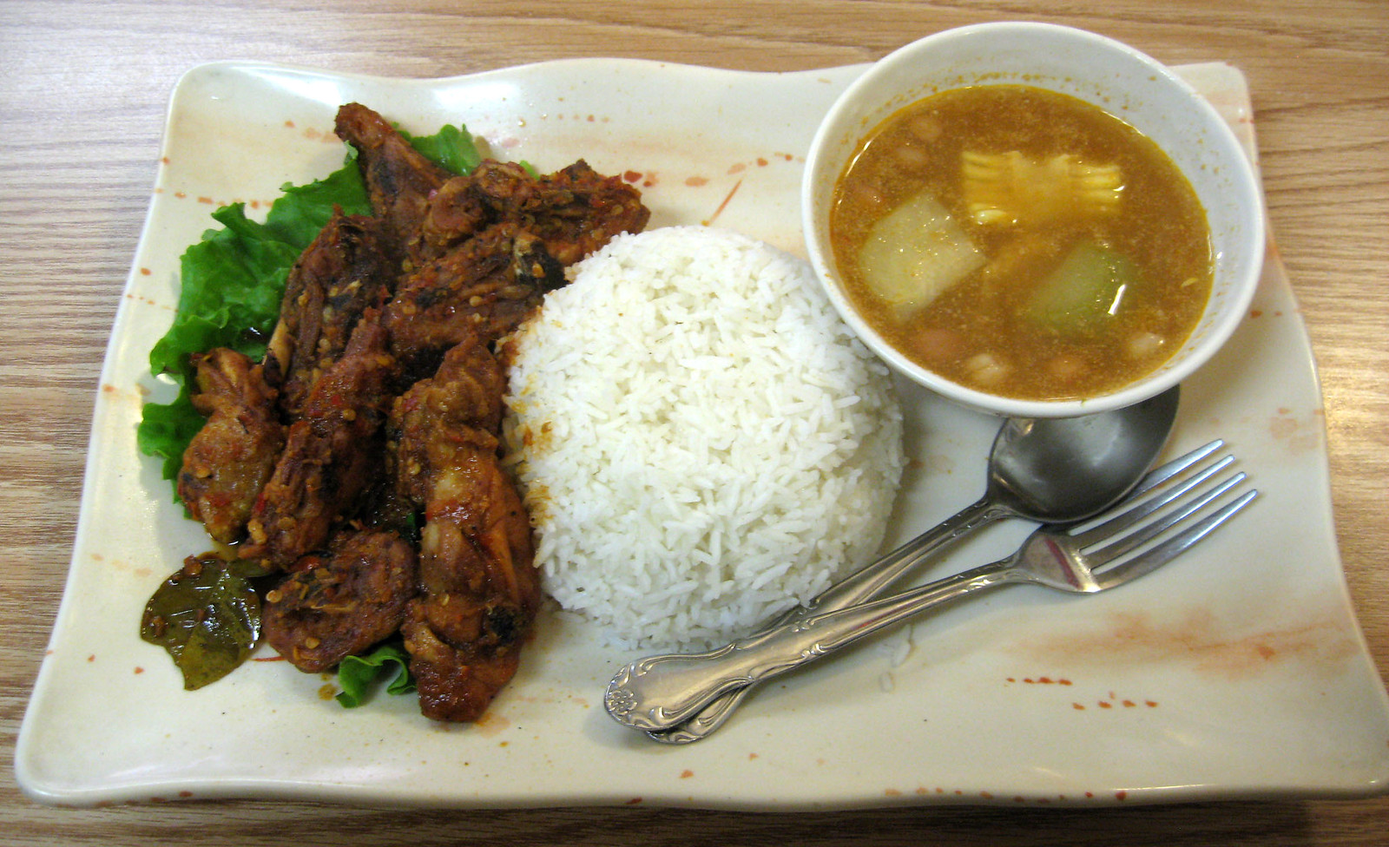buah_sayur_lainnya: (874, 210, 953, 307)
daging: (297, 294, 483, 614)
makanan_berpati: (590, 276, 764, 578)
